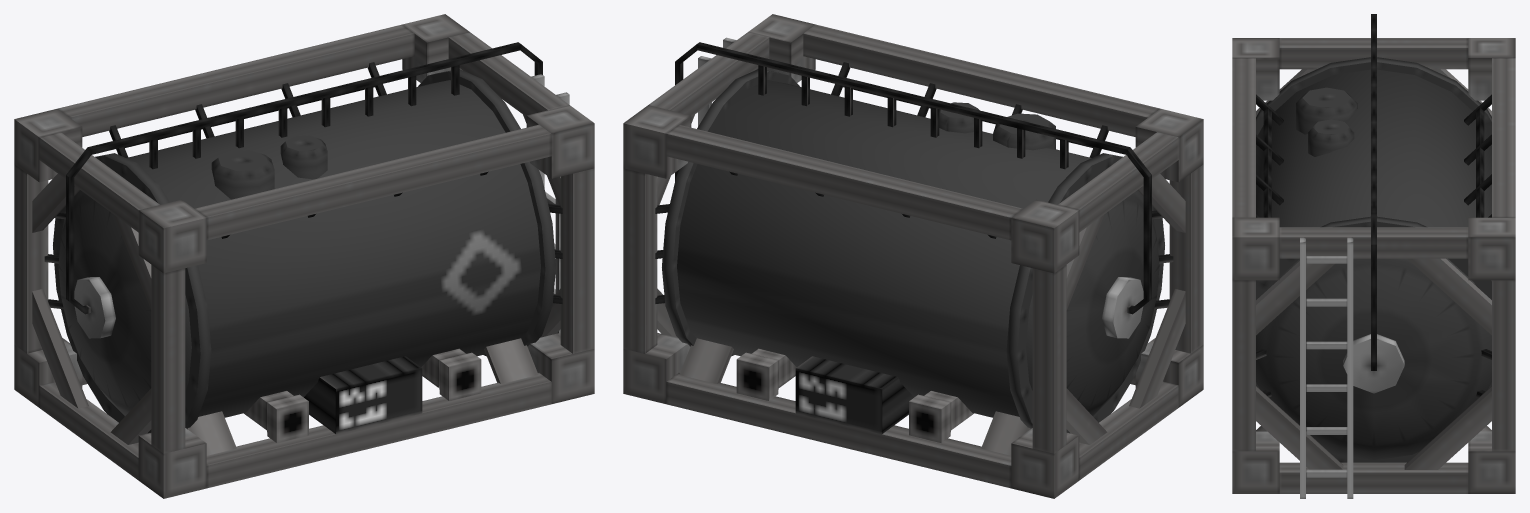
The model's file is machine_fluidtank_fluid_125.obj.
The picture shows the model from 3 angles, left to right: view 1: azimuth 30°, elevation 25°; view 2: azimuth 150°, elevation 25°; view 3: azimuth 270°, elevation 25°; orthographic projection. The views are drawn at different scales.
Parts seen in each view (by area): view 1: Frame, Tank; view 2: Frame, Tank; view 3: Frame, Tank.
Boxes of the visible parts, left/top/right/bottom form: Frame: left=14, top=14, right=594, bottom=498; Tank: left=53, top=69, right=555, bottom=433; Frame: left=623, top=14, right=1203, bottom=498; Tank: left=662, top=69, right=1164, bottom=433; Frame: left=1232, top=14, right=1515, bottom=498; Tank: left=1256, top=57, right=1491, bottom=462.
Bounding box in the file's own units: 5.5 × 3.28 × 3.
